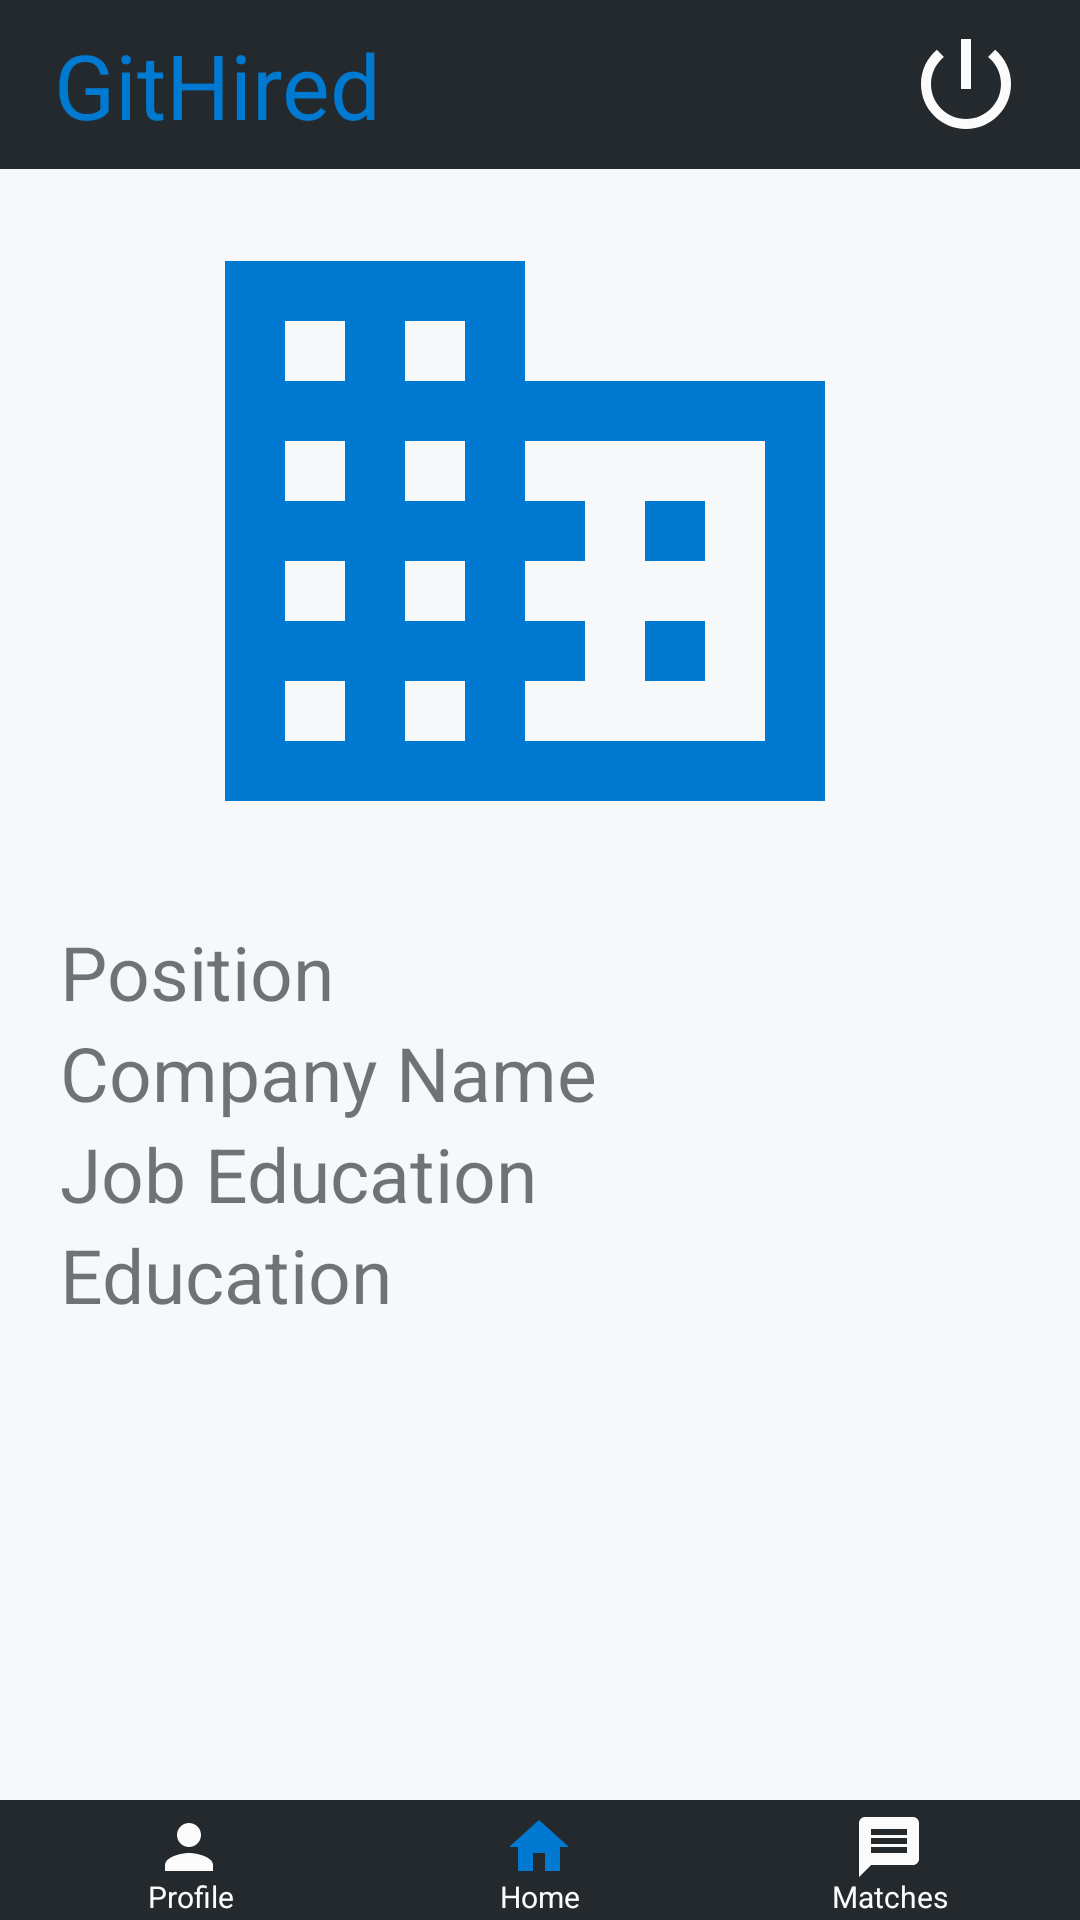

Named icons in this screenshot (1080*1920) and their bounding boxes, rect(x1, y1, x2, y2):
messagewhite: rect(859, 1817, 919, 1877)
powerwhite: rect(921, 39, 1011, 129)
